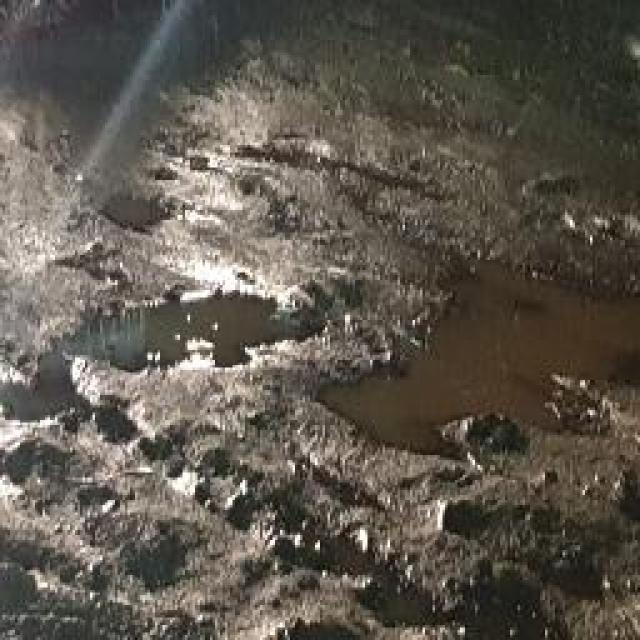stagnation: (296, 247, 640, 486), (42, 291, 328, 384)
